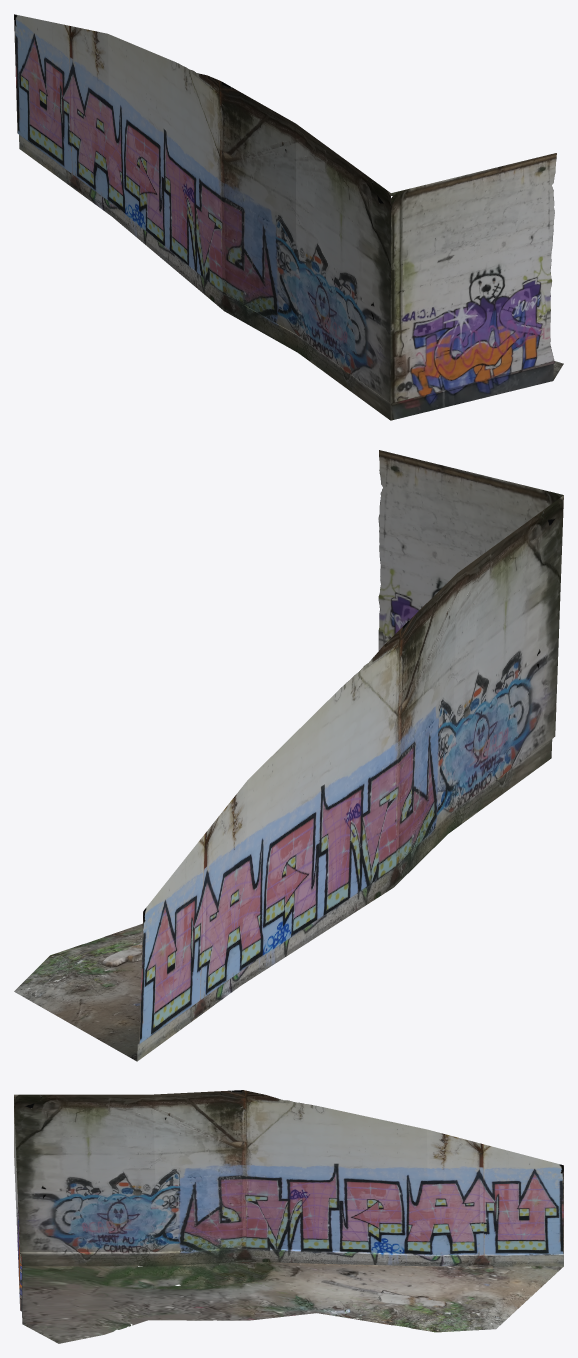
File: graf_wall.obj
3 renders of one model, top to bottom at view 1: azimuth 30°, elevation 25°; view 2: azimuth 150°, elevation 25°; view 3: azimuth 270°, elevation 25°, orthographic. The views are drawn at different scales.
Visible parts, largest first — view 1: graf_wall_low_Plane; view 2: graf_wall_low_Plane; view 3: graf_wall_low_Plane.
Boxes of the visible parts, box(x1,y1,x2,y2) form: graf_wall_low_Plane: box(14, 14, 563, 420); graf_wall_low_Plane: box(14, 450, 563, 1061); graf_wall_low_Plane: box(14, 1090, 563, 1343).
Size of the model in its own units: 1.54 by 1.66 by 4.66.
1 material, 1 textured.
